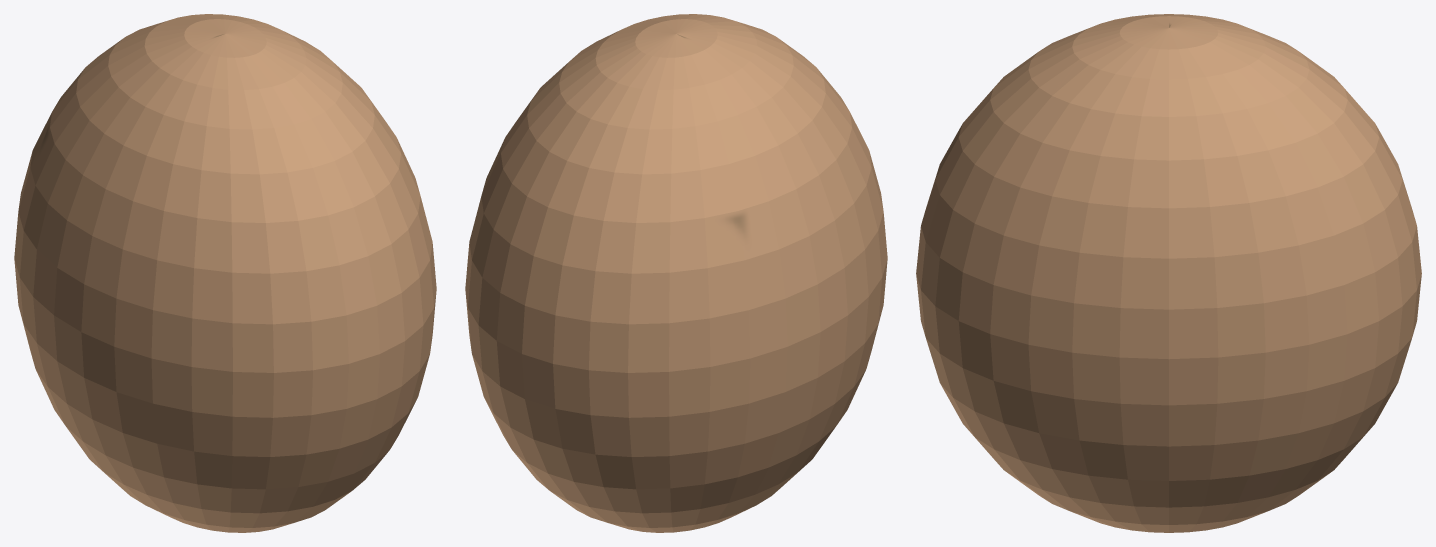
Rendered from ManoDer_Bulls.obj.
3 views of the same model, side by side, from view 1: azimuth 30°, elevation 25°; view 2: azimuth 150°, elevation 25°; view 3: azimuth 270°, elevation 25° (orthographic). The views are drawn at different scales.
Visible parts, largest first — view 1: ManoDer_Bulls; view 2: ManoDer_Bulls; view 3: ManoDer_Bulls.
Part boxes in pixels (bbox=[...]): ManoDer_Bulls: bbox=[14, 14, 436, 532]; ManoDer_Bulls: bbox=[465, 14, 887, 532]; ManoDer_Bulls: bbox=[916, 14, 1421, 532].
Bounding box in the file's own units: 0.764 × 1.02 × 0.9529.
Materials: 1 (1 with a texture image).
